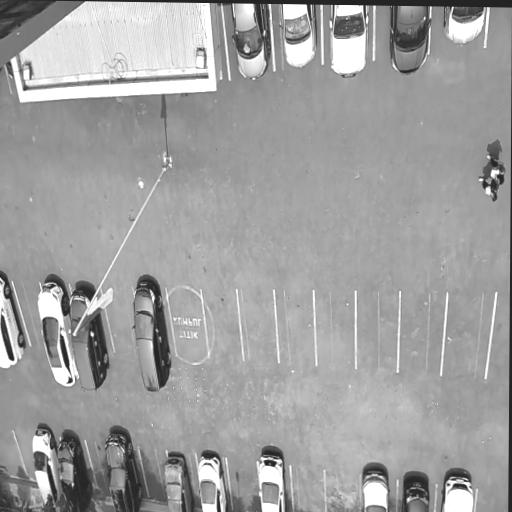Car: (132, 276, 176, 398), (36, 274, 80, 391), (68, 278, 112, 395), (102, 429, 145, 512), (229, 4, 272, 82), (328, 5, 371, 81), (388, 6, 432, 80), (56, 435, 96, 512), (30, 422, 64, 511), (0, 270, 28, 375), (278, 4, 317, 69), (193, 447, 231, 512), (162, 450, 197, 512), (257, 449, 288, 512), (441, 7, 488, 47), (438, 469, 478, 512), (361, 466, 391, 512), (401, 473, 431, 512)
Space Available: (442, 298, 496, 380), (399, 294, 448, 375), (356, 292, 400, 371), (314, 292, 355, 368), (275, 292, 317, 365), (201, 291, 243, 361), (237, 291, 278, 362), (167, 289, 209, 357), (101, 288, 136, 352), (488, 295, 510, 383), (13, 285, 43, 347), (226, 459, 260, 512), (139, 451, 168, 505), (291, 466, 325, 512), (85, 442, 111, 497), (325, 470, 359, 512), (13, 430, 37, 484), (475, 487, 508, 512)
